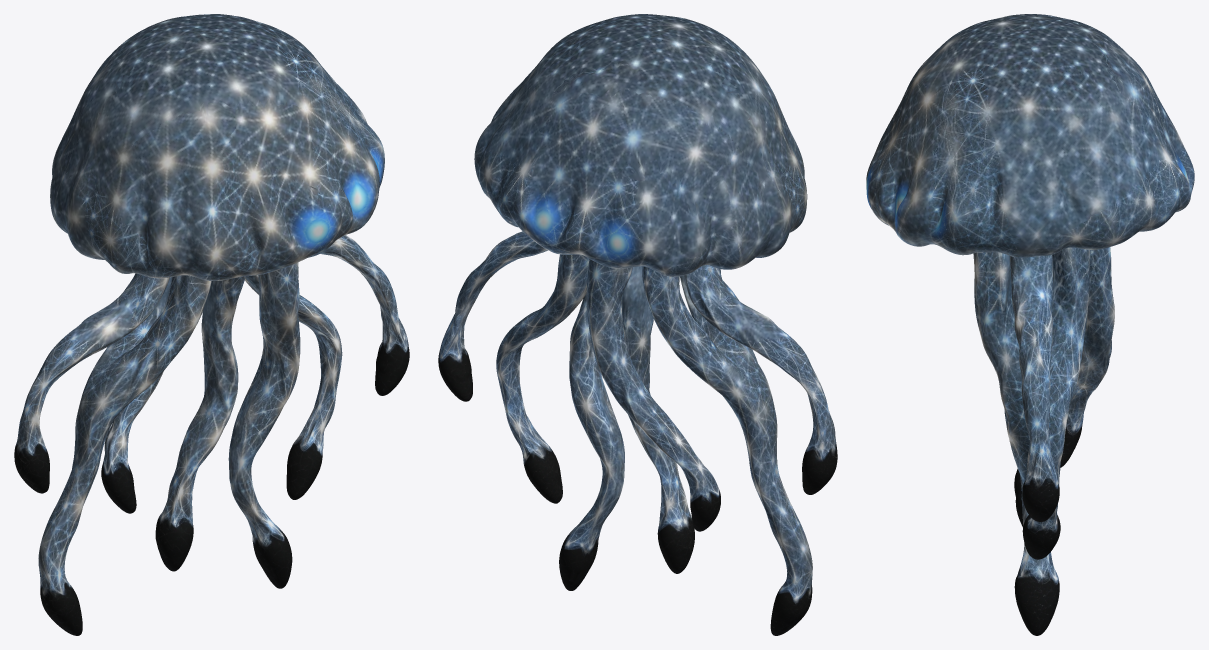
The model's file is pet-jellyfish.glb.
3 views of the same model, side by side, from view 1: azimuth 30°, elevation 25°; view 2: azimuth 150°, elevation 25°; view 3: azimuth 270°, elevation 25° (orthographic).
Parts seen in each view (by area): view 1: Mesh_0.002; view 2: Mesh_0.002; view 3: Mesh_0.002.
Boxes of the visible parts, box(x1,y1,x2,y2) form: Mesh_0.002: box(14, 14, 409, 635); Mesh_0.002: box(438, 14, 837, 635); Mesh_0.002: box(866, 14, 1194, 635).
Bounding box in the file's own units: 0.1062 × 0.15 × 0.0782.
Materials: 1 (1 with a texture image).
